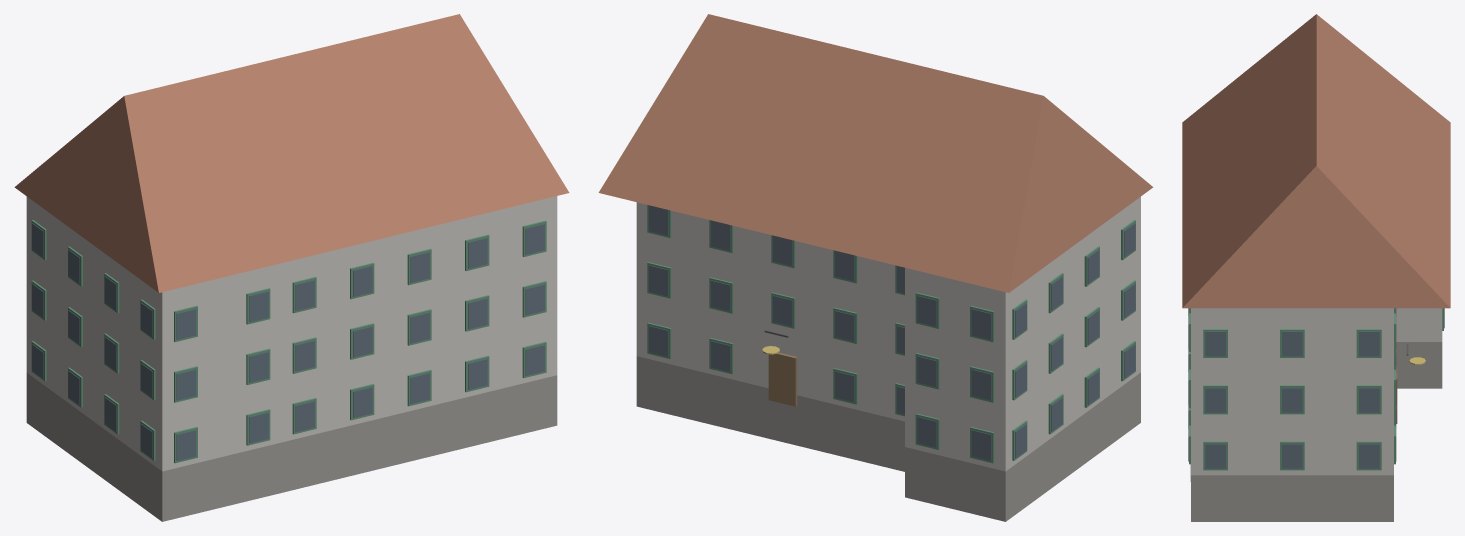
File: landmark-inn-gasthaus-hirschen.glb
3 renders of one model, left to right at view 1: azimuth 30°, elevation 25°; view 2: azimuth 150°, elevation 25°; view 3: azimuth 270°, elevation 25°, orthographic. The views are drawn at different scales.
Parts seen in each view (by area): view 1: building; view 2: building; view 3: building.
Boxes of the visible parts, bbox=[...] form: building: bbox=[14, 14, 569, 521]; building: bbox=[598, 14, 1153, 521]; building: bbox=[1182, 14, 1450, 521].
Bounding box in the file's own units: 21.29 × 18.3 × 12.98.
